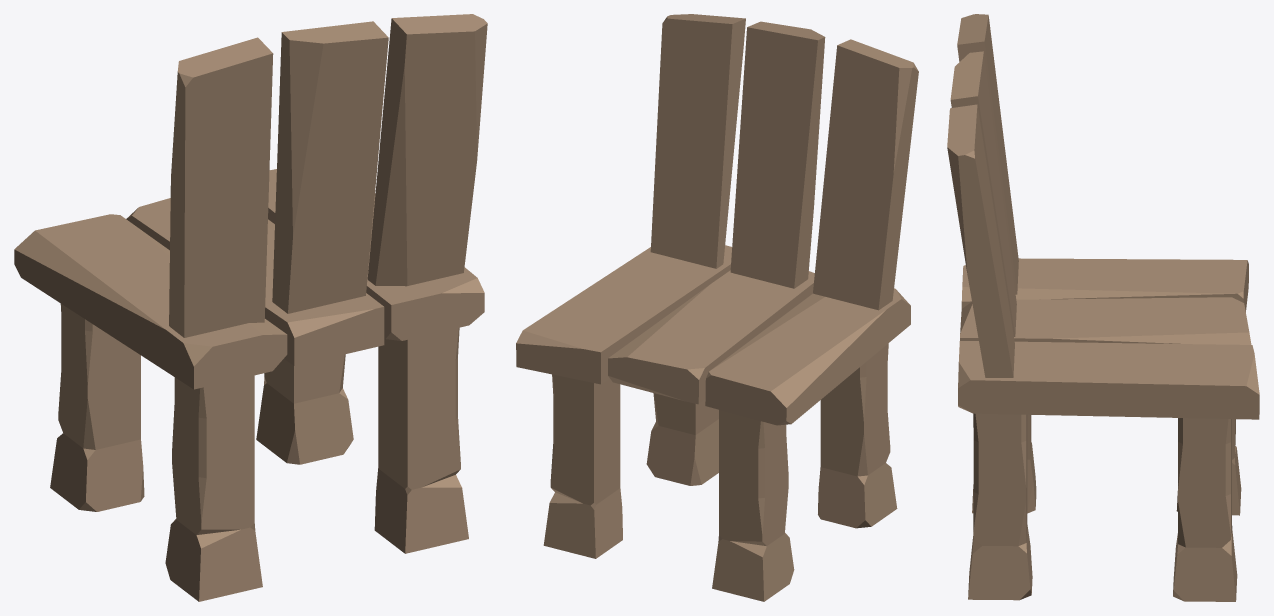
Rendered from Chair.fbx.
3 renders of one model, left to right at view 1: azimuth 30°, elevation 25°; view 2: azimuth 150°, elevation 25°; view 3: azimuth 270°, elevation 25°, orthographic. The views are drawn at different scales.
Visible parts, largest first — view 1: Chair2; view 2: Chair2; view 3: Chair2.
Boxes of the visible parts, <box> form: Chair2: <box>14,14,487,601</box>; Chair2: <box>516,14,918,601</box>; Chair2: <box>947,14,1259,601</box>.
Bounding box in the file's own units: 79.12 × 129 × 77.52.
